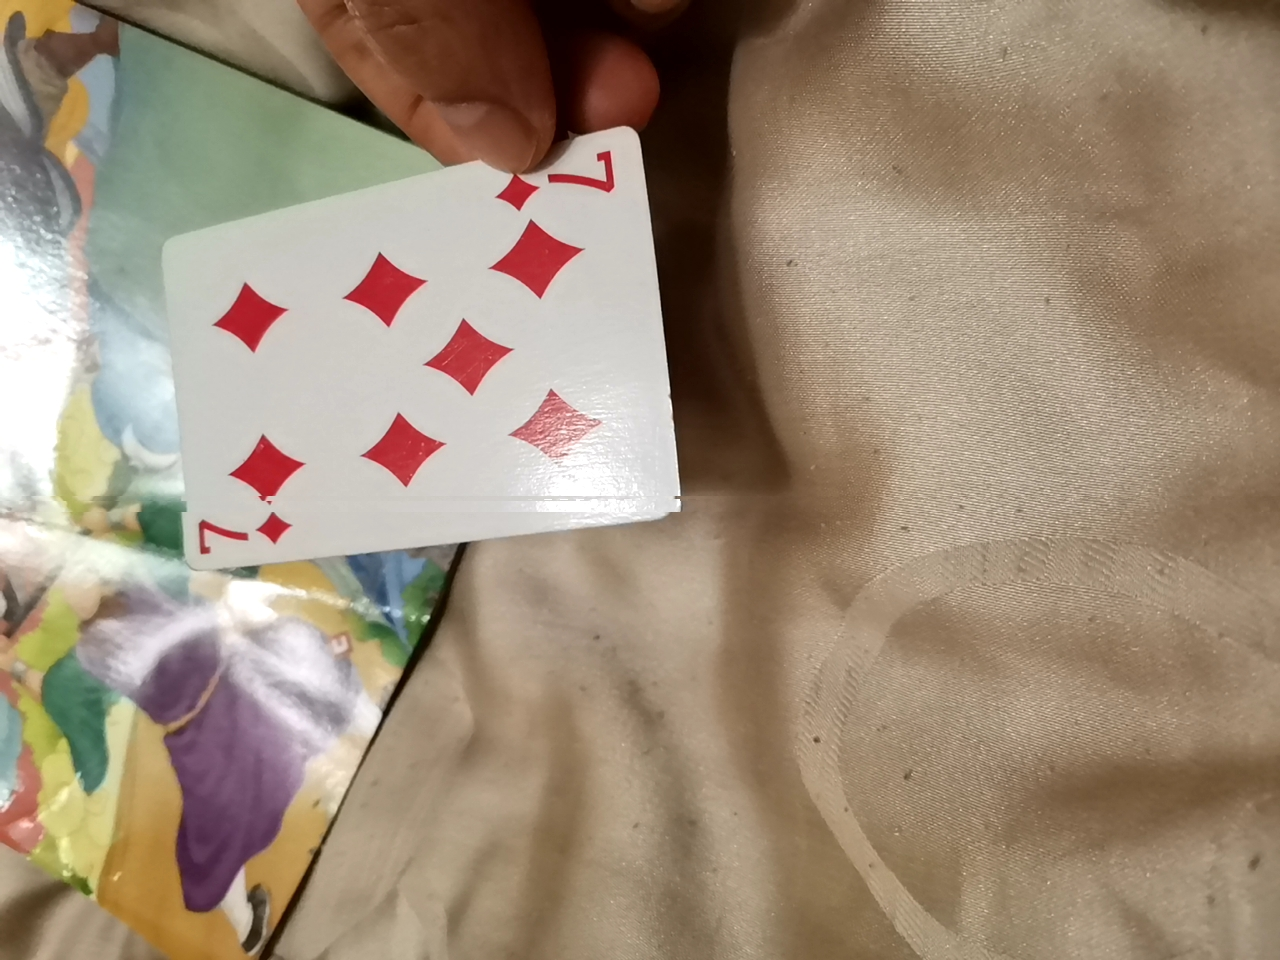fk 7: (167, 136, 664, 556)
